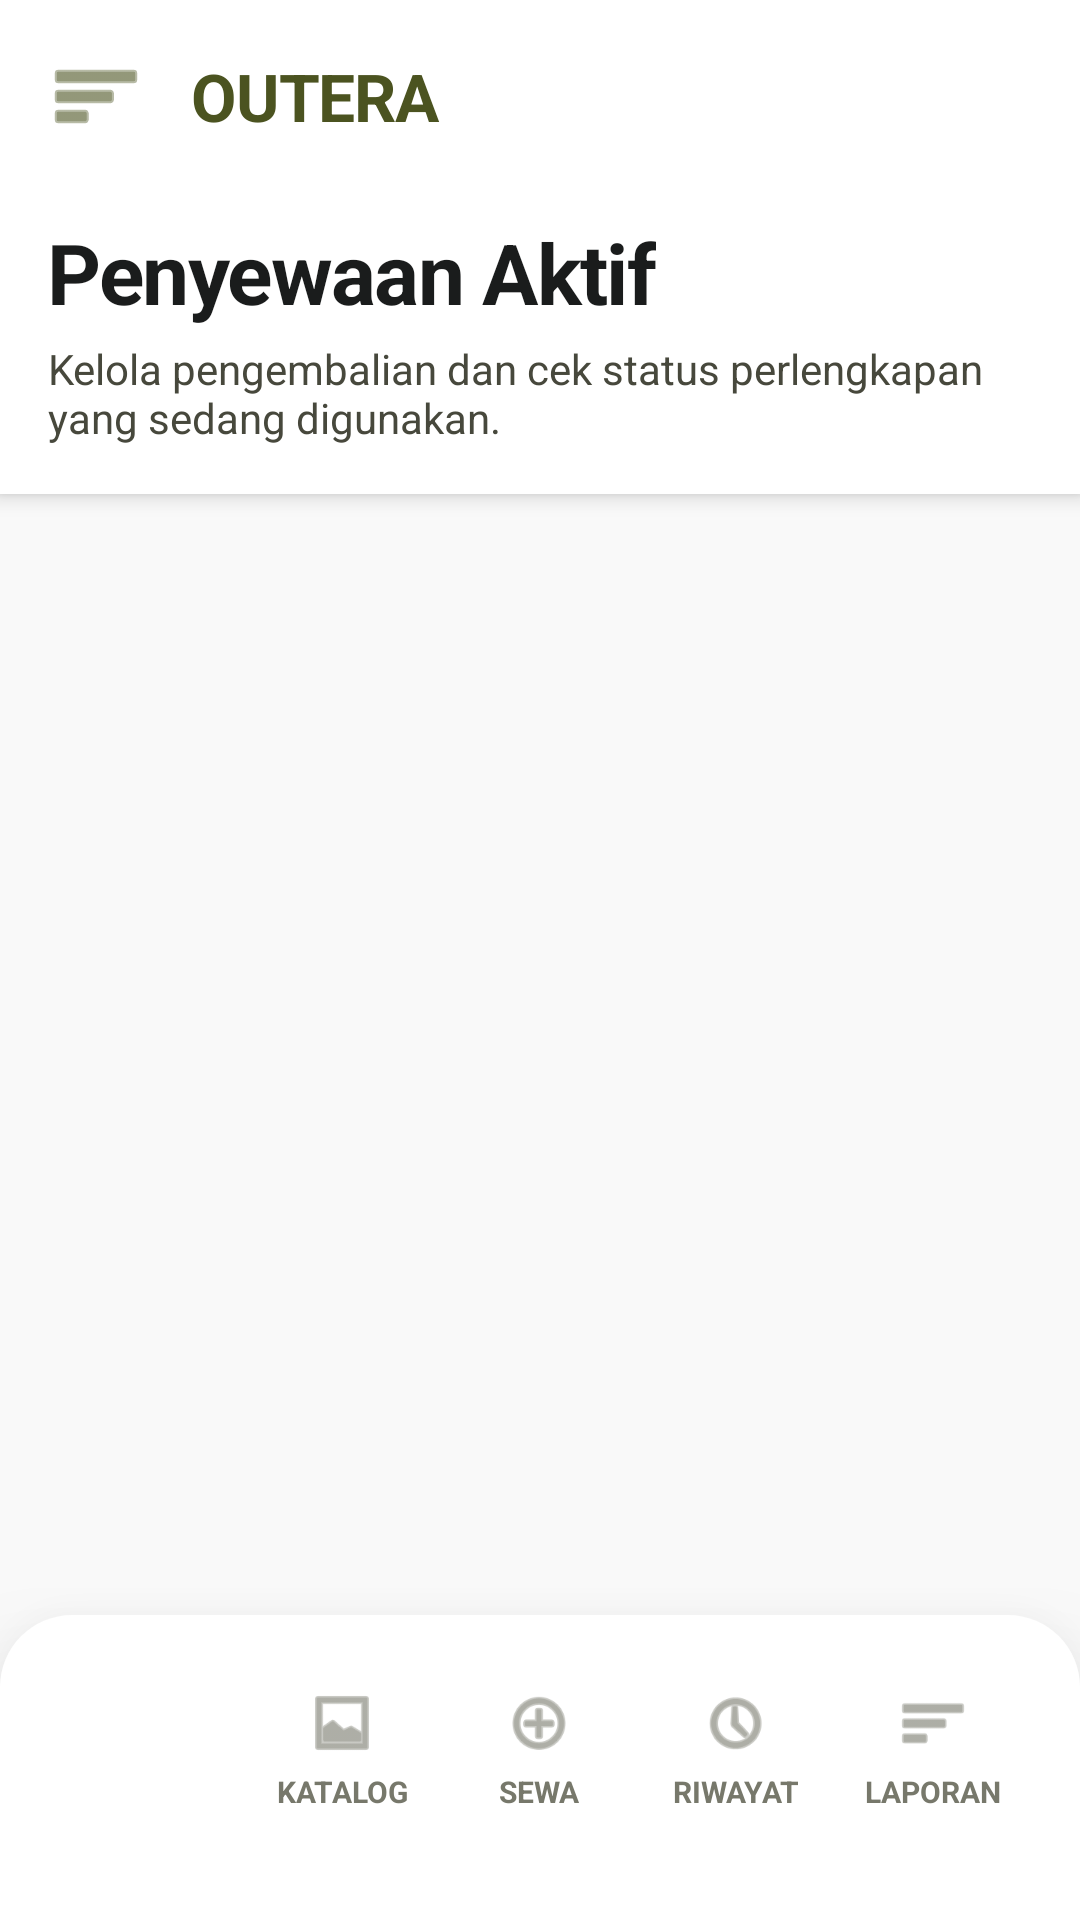

Icon click points for this 1080px×1920px phone screenshot, format point (x, y):
add: point (539, 1723)
gallery: point (342, 1723)
sort by size: point (96, 96), point (933, 1723)
